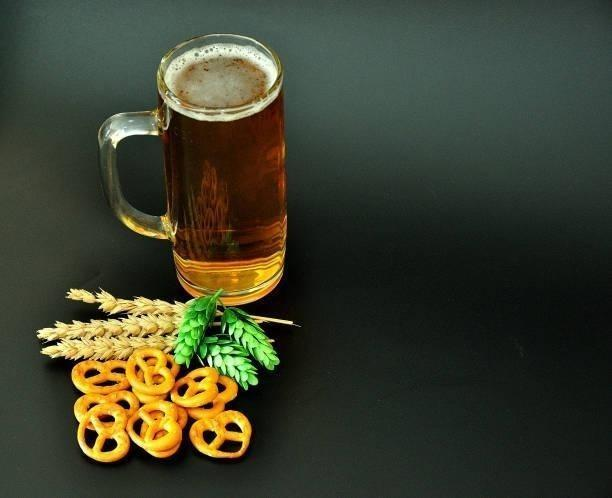glass-mug: (96, 31, 290, 307)
